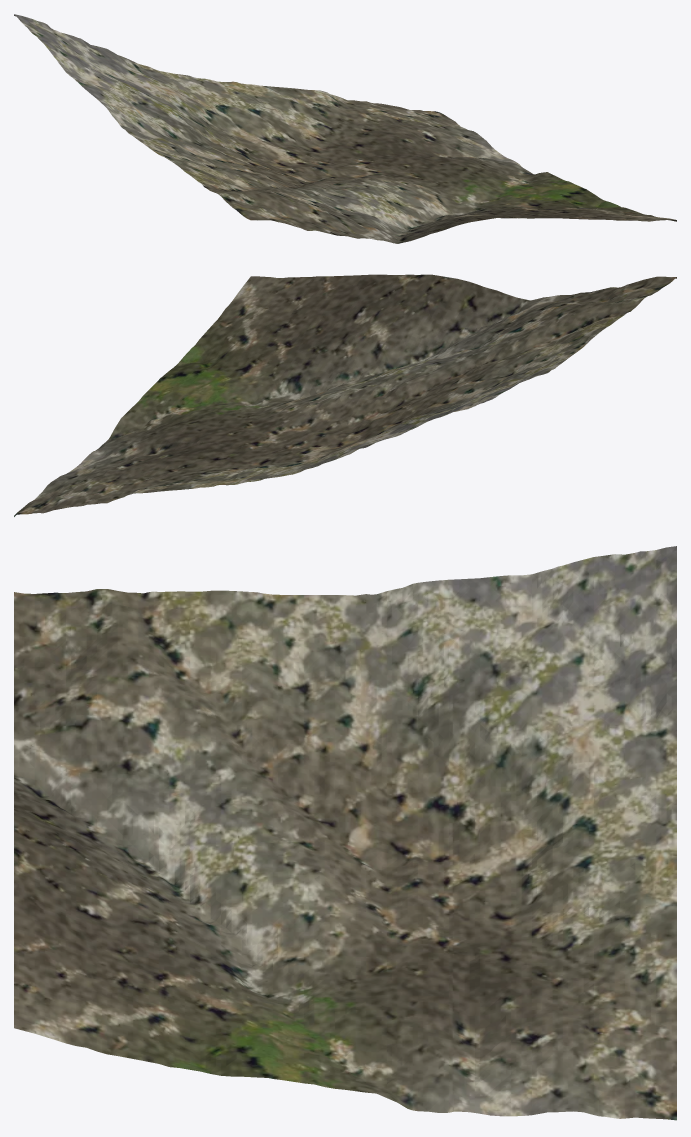
The picture shows the model from 3 angles, top to bottom: view 1: azimuth 30°, elevation 25°; view 2: azimuth 150°, elevation 25°; view 3: azimuth 270°, elevation 25°; orthographic projection. The views are drawn at different scales.
Bounding box in the file's own units: 250 × 114 × 241.
Materials: 1 (1 with a texture image).
